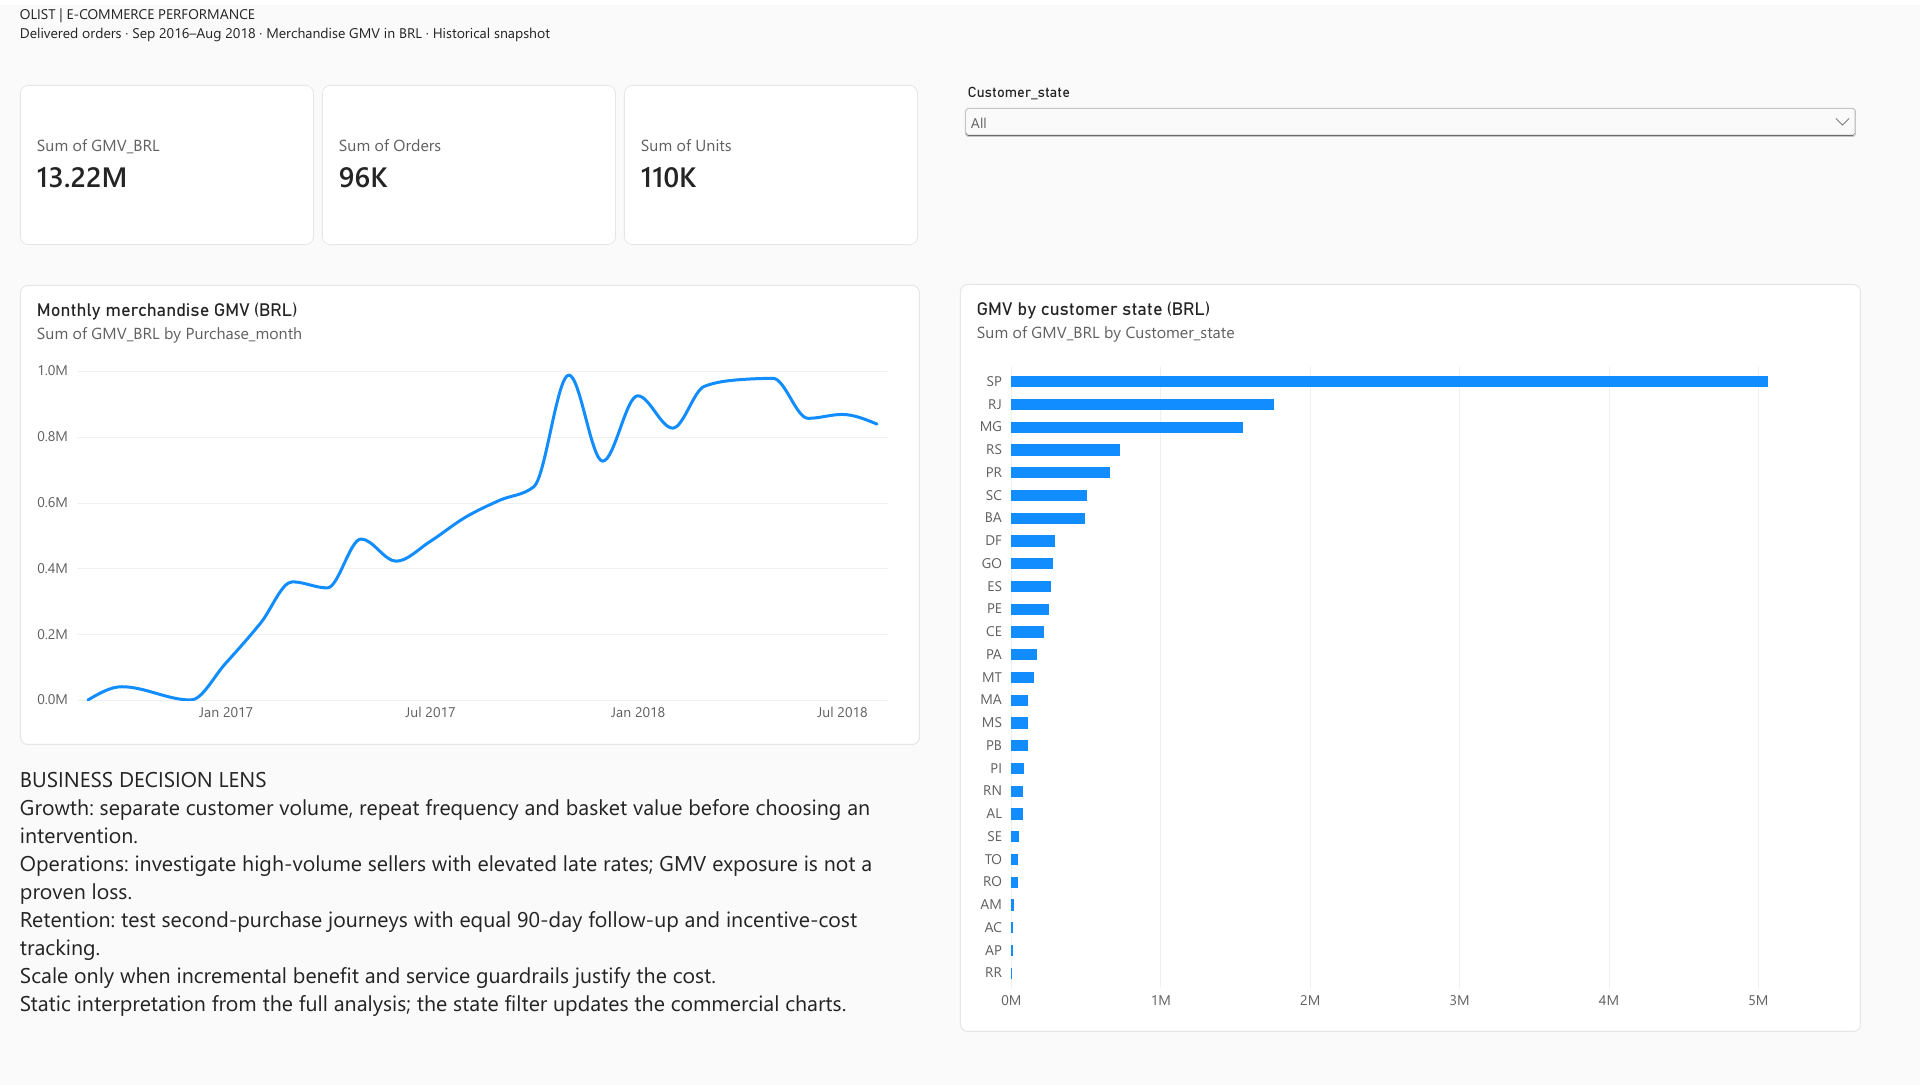

This screenshot's page, from the dashboard's own definition file:
{"tool":"powerbi","page":{"name":"Page 1","canvas":[1920,1080],"ordinal":0},"visuals":[{"type":"cardVisual","fields":{"Data":["Sum(dashboard_data.GMV_BRL)","Sum(dashboard_data.Orders)","Sum(dashboard_data.Units)"]},"box":[20,80,900,160],"z":0},{"type":"lineChart","title":"Monthly merchandise GMV (BRL)","fields":{"Category":["dashboard_data.Purchase_month"],"Y":["Sum(dashboard_data.GMV_BRL)"]},"box":[20,280,900,460],"z":1},{"type":"clusteredBarChart","title":"GMV by customer state (BRL)","fields":{"Category":["dashboard_data.Customer_state"],"Y":["Sum(dashboard_data.GMV_BRL)"]},"box":[960,279.1,900.6,748.2],"z":2},{"type":"slicer","fields":{"Values":["dashboard_data.Customer_state"]},"box":[960,80,900.6,160],"z":3},{"type":"textbox","box":[20,0,960,75],"z":4},{"type":"textbox","box":[20,760,900,300],"z":5}]}

Visuals, with their boxes in screenshot pixels (x1, y1, x2, y2), scaled from the page's 1920x1080 canvas onto the 1920x1090 screenshot:
cardVisual - Sum(dashboard_data.GMV_BRL) x Sum(dashboard_data.Orders): [left=20, top=81, right=920, bottom=242]
"Monthly merchandise GMV (BRL)" lineChart: [left=20, top=283, right=920, bottom=747]
"GMV by customer state (BRL)" clusteredBarChart: [left=960, top=282, right=1861, bottom=1037]
slicer - dashboard_data.Customer_state: [left=960, top=81, right=1861, bottom=242]
textbox: [left=20, top=0, right=980, bottom=76]
textbox: [left=20, top=767, right=920, bottom=1070]
